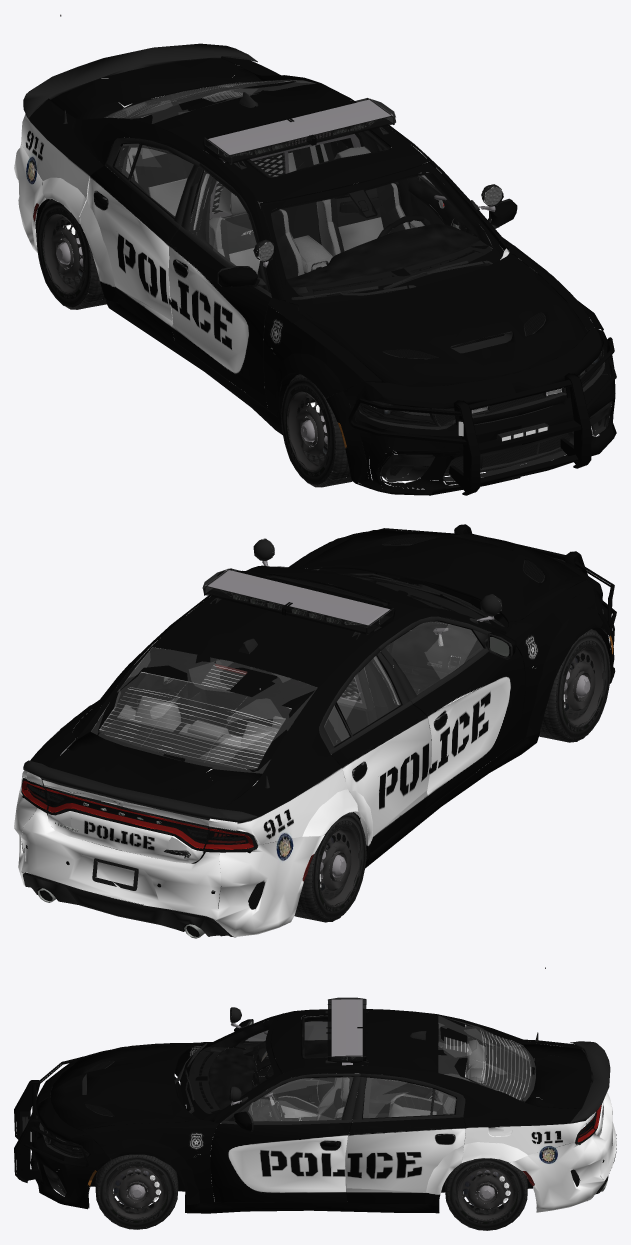
Rendered from dodge-charger-srt-police-c6d525.glb.
3 views of the same model, one above another, from view 1: azimuth 30°, elevation 25°; view 2: azimuth 150°, elevation 25°; view 3: azimuth 270°, elevation 25° (orthographic). The views are drawn at different scales.
Parts seen in each view (by area): view 1: body, wheel-front-right, wheel-back-right; view 2: body, wheel-front-right, wheel-back-right; view 3: body, wheel-front-left, wheel-back-left.
Boxes of the visible parts, x1,y1,x2,y2 form: body: [14, 14, 616, 495]; wheel-front-right: [281, 374, 369, 487]; wheel-back-right: [36, 199, 106, 309]; body: [14, 524, 616, 938]; wheel-front-right: [539, 629, 610, 742]; wheel-back-right: [214, 812, 366, 922]; body: [14, 967, 616, 1213]; wheel-front-left: [95, 1154, 178, 1229]; wheel-back-left: [445, 1158, 527, 1230].
Size of the model in its own units: 2.02 by 1.66 by 5.
Materials: 97 (88 with a texture image).
